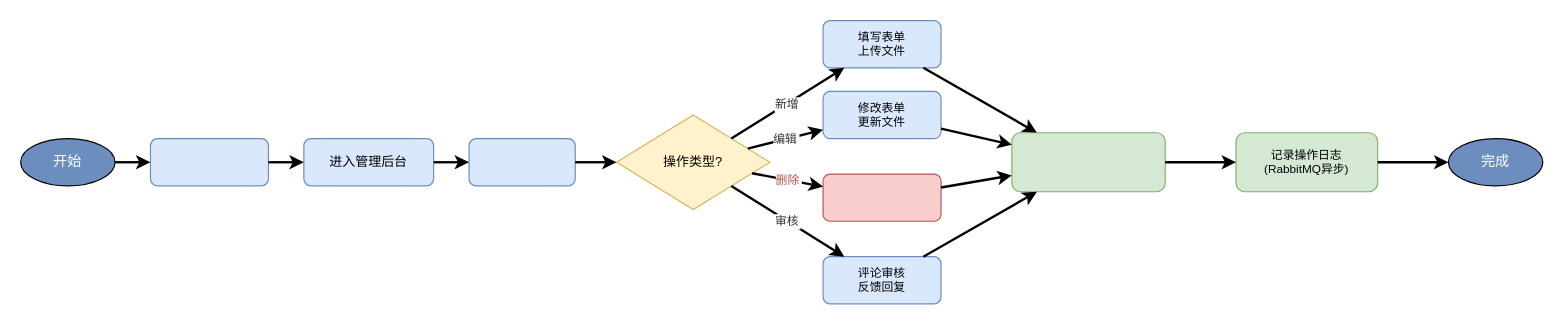
Some shapes in this 1563 by 325 pixel diagram are drawn without their labels. The shapes that lost their labels are listed below. From the top down, each one's centre as x and y in pixels, then its label:
(208,161): 管理员登录
(521,161): 选择 管理模块
(1088,162): 数据持久化 (MySQL+Redis)
(881,197): 确认删除 清理文件
